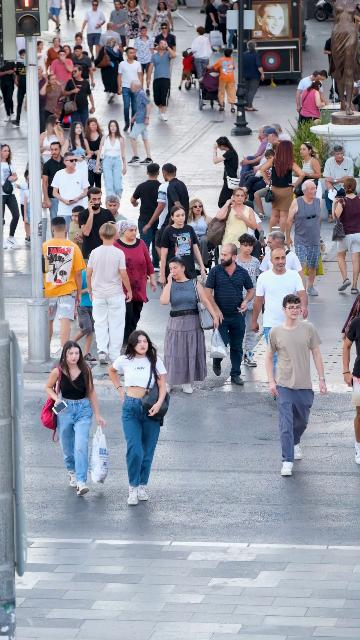person: (264, 293, 328, 477), (108, 330, 170, 505), (45, 340, 106, 497), (160, 258, 220, 394), (251, 247, 309, 377), (203, 243, 255, 387), (86, 222, 133, 365), (41, 216, 87, 350), (114, 219, 158, 344), (143, 163, 189, 273), (285, 180, 325, 298), (261, 139, 306, 233), (233, 233, 262, 368), (159, 205, 207, 285), (130, 163, 161, 276), (237, 127, 283, 202), (51, 151, 91, 234), (332, 177, 360, 294), (341, 299, 360, 465), (258, 230, 307, 290), (70, 257, 97, 362), (78, 187, 116, 260), (215, 186, 259, 249), (321, 145, 355, 223), (96, 120, 127, 200), (147, 39, 176, 122), (0, 143, 22, 252), (116, 47, 144, 132), (127, 79, 154, 166), (40, 142, 70, 218), (63, 65, 96, 129), (184, 198, 212, 273), (62, 121, 92, 188), (94, 37, 124, 104), (213, 136, 240, 208), (207, 48, 236, 113), (250, 149, 275, 220), (241, 41, 265, 112), (82, 118, 105, 189), (294, 142, 322, 198), (239, 125, 268, 178), (295, 69, 328, 114), (298, 81, 329, 128), (39, 74, 65, 130), (39, 115, 65, 168), (10, 49, 27, 125), (133, 26, 155, 84), (189, 26, 213, 76), (0, 58, 18, 122), (323, 36, 340, 103), (109, 0, 129, 52), (49, 49, 74, 84), (125, 0, 143, 48), (150, 1, 174, 36), (152, 22, 177, 54), (217, 0, 233, 50), (102, 193, 127, 224), (45, 37, 65, 74), (69, 205, 84, 253), (99, 21, 123, 49), (179, 49, 194, 90), (270, 123, 292, 143), (71, 32, 83, 56), (140, 0, 151, 23), (60, 45, 73, 59)
